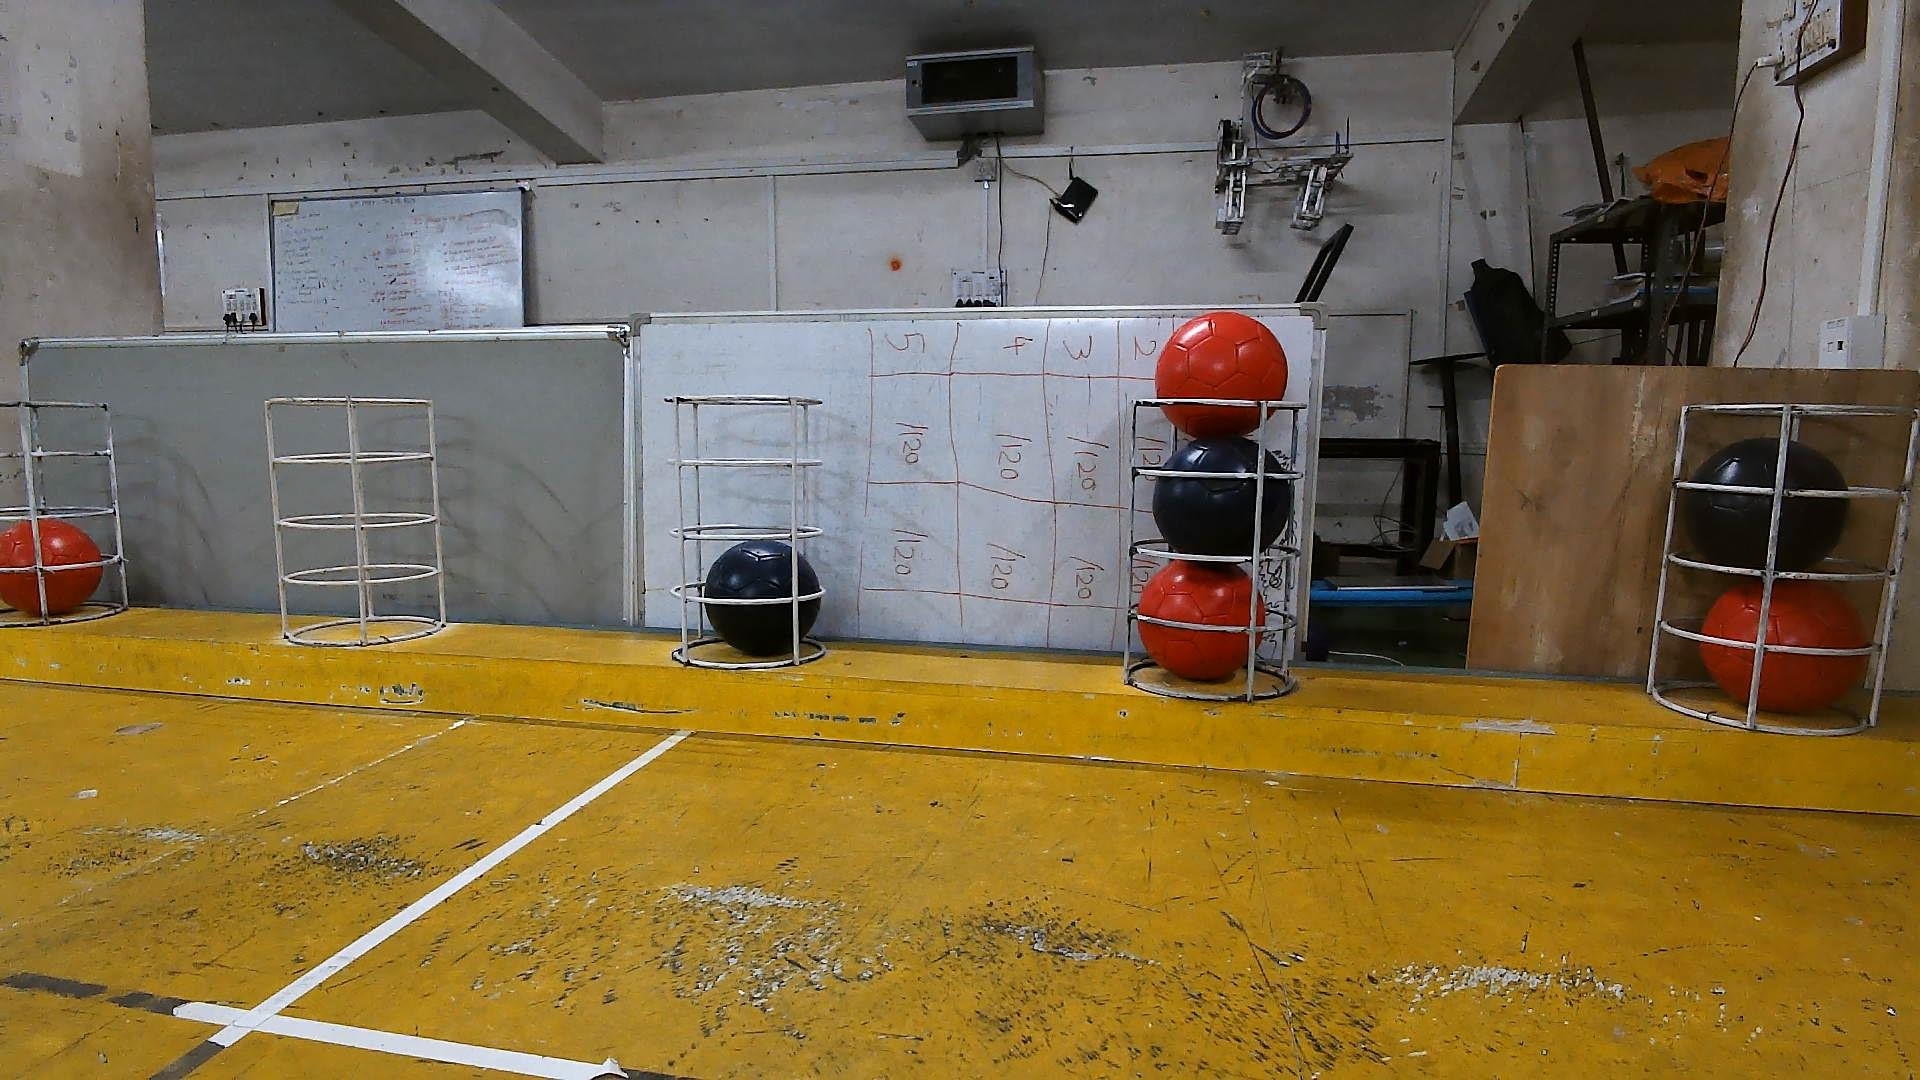dhoka: (1680, 439, 1849, 570), (1151, 431, 1290, 555), (701, 540, 821, 660)
laale: (1695, 578, 1868, 716), (1155, 311, 1290, 439), (1146, 560, 1262, 684), (0, 518, 101, 615)
